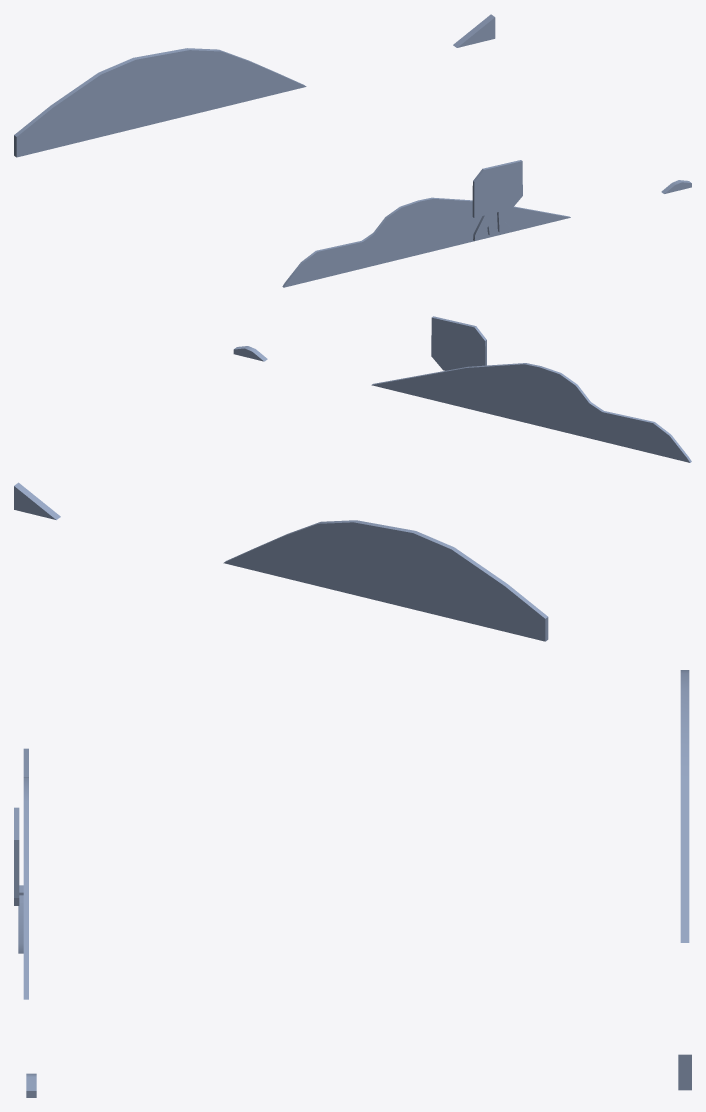
Rendered from frame_0079.glb.
3 views of the same model, one above another, from view 1: azimuth 30°, elevation 25°; view 2: azimuth 150°, elevation 25°; view 3: azimuth 270°, elevation 25° (orthographic). The views are drawn at different scales.
Parts seen in each view (by area): view 1: export_trees_001.002; view 2: export_trees_001.002; view 3: export_trees_001.002.
Part boxes in pixels (<box>): export_trees_001.002: <box>14,14,691,287</box>; export_trees_001.002: <box>14,316,691,641</box>; export_trees_001.002: <box>14,670,691,1097</box>.
Size of the model in its own units: 0.4327 by 0.0622 by 0.321.
